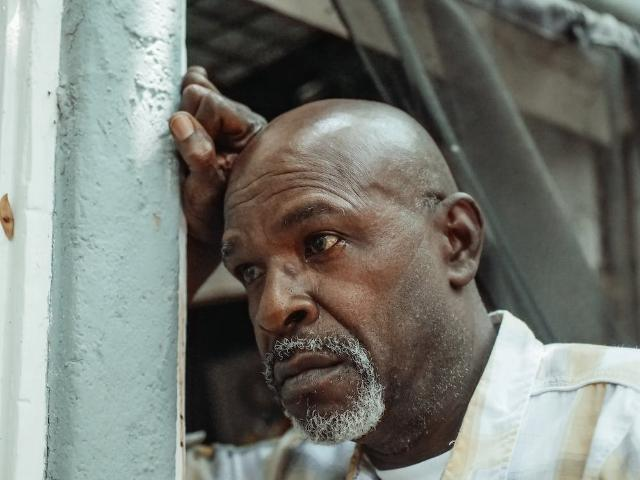forehead: (230, 172, 272, 208), (280, 166, 332, 194)
gummy_smile: (318, 298, 358, 334)
